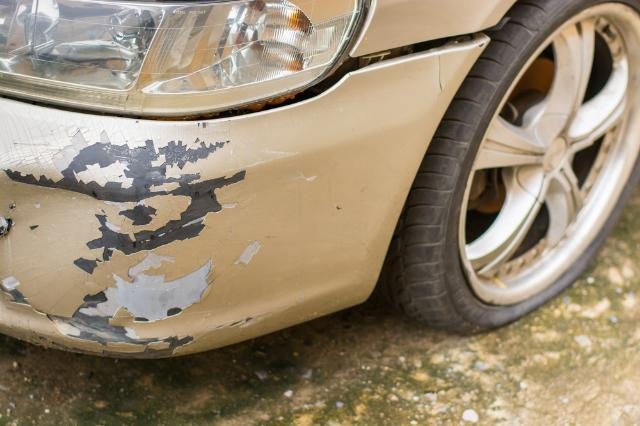scratch: (0, 128, 302, 359)
tire flat: (382, 0, 640, 334)
